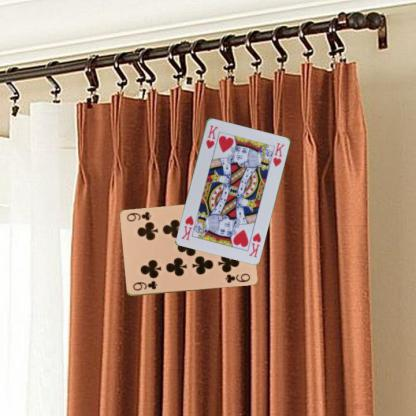9c: (130, 278, 158, 292)
Kh: (203, 122, 219, 150), (246, 230, 262, 258)
